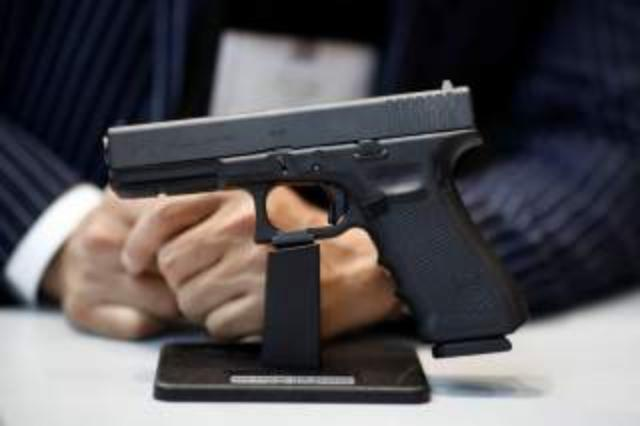handgun: (98, 76, 530, 364)
